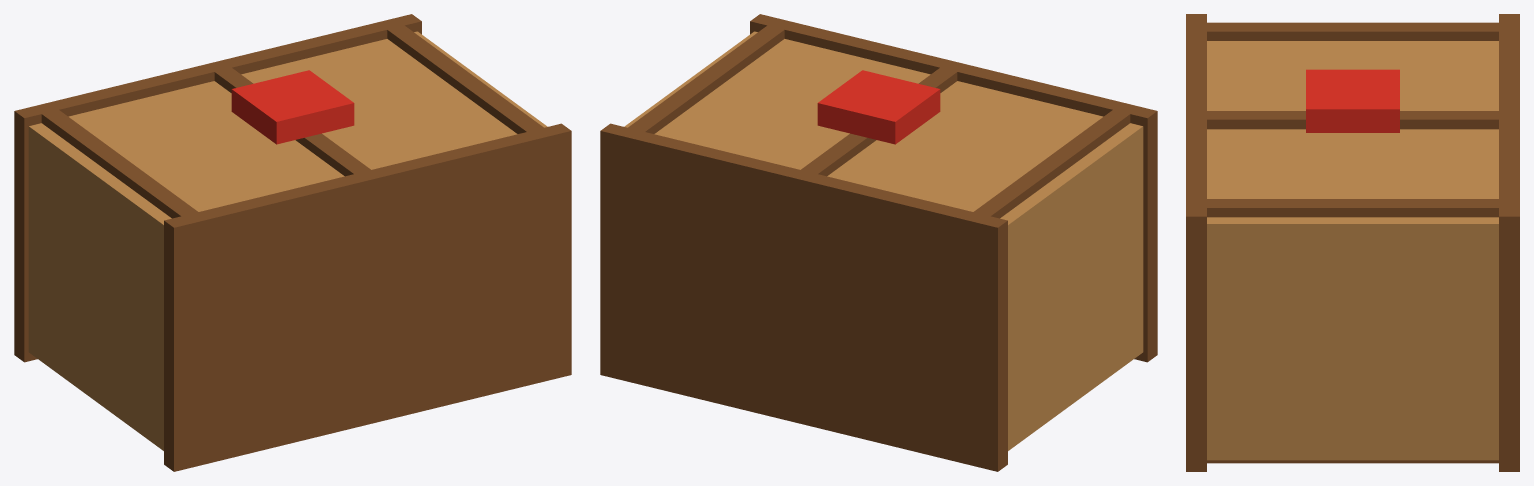
File: lobster_trap.glb
3 views of the same model, side by side, from view 1: azimuth 30°, elevation 25°; view 2: azimuth 150°, elevation 25°; view 3: azimuth 270°, elevation 25° (orthographic). The views are drawn at different scales.
Visible parts, largest first — view 1: lobster_trap; view 2: lobster_trap; view 3: lobster_trap.
Boxes of the visible parts, x1,y1,x2,y2 form: lobster_trap: [14, 14, 571, 471]; lobster_trap: [600, 14, 1157, 471]; lobster_trap: [1186, 14, 1519, 471].
Bounding box in the file's own units: 0.92 × 0.595 × 0.64.
